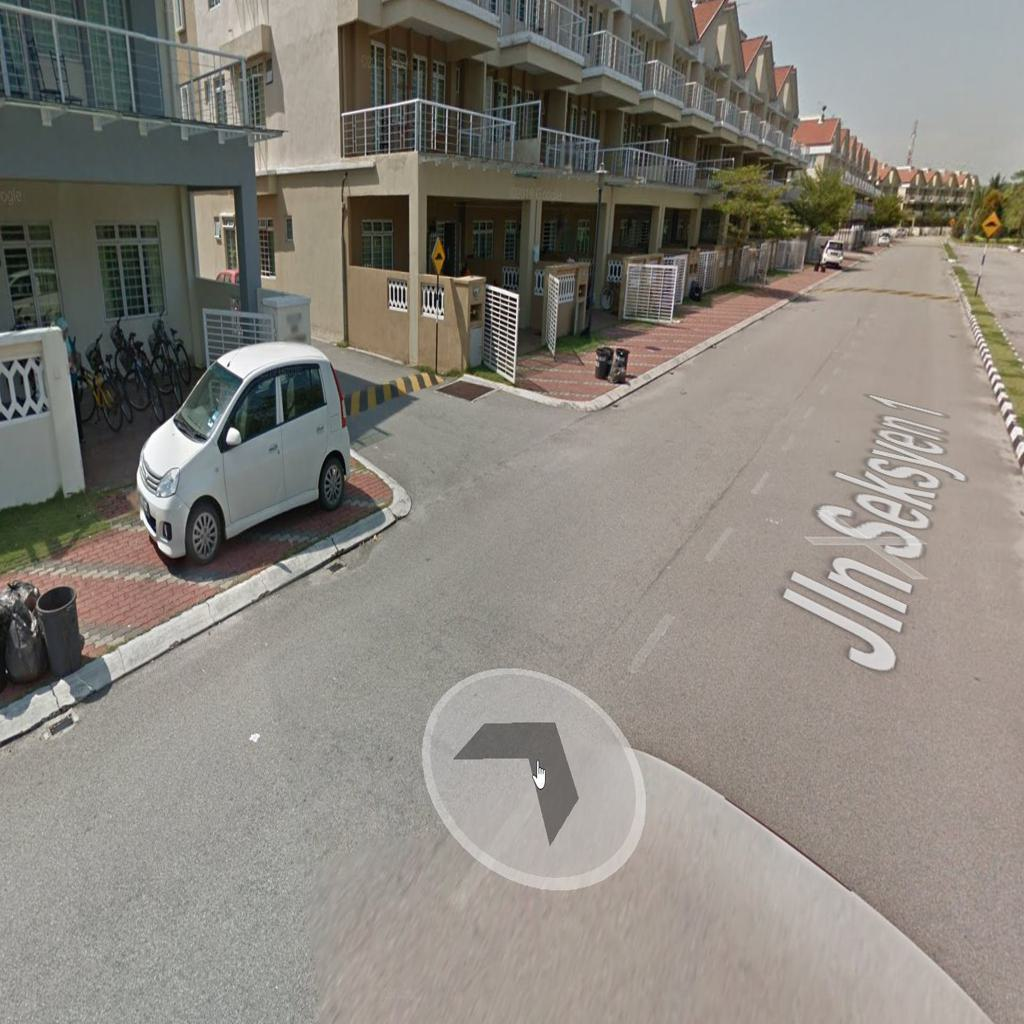Junction: (336, 349, 607, 570)
